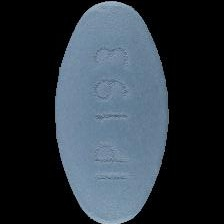0904-6185: (0, 0, 224, 224)
